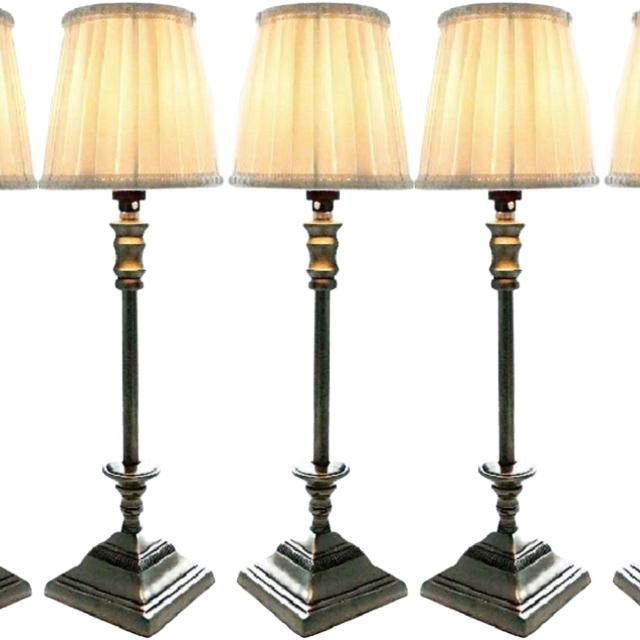lamp: (414, 5, 598, 640), (229, 5, 412, 640), (38, 5, 221, 640)
